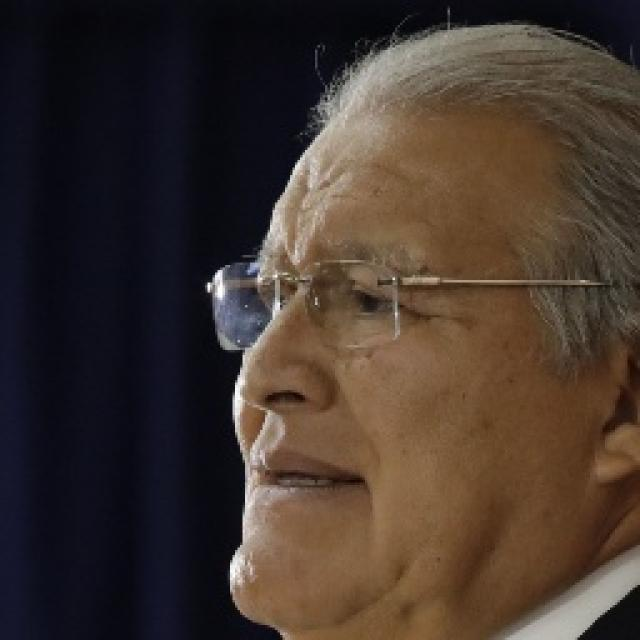earlobe: (598, 315, 640, 483)
